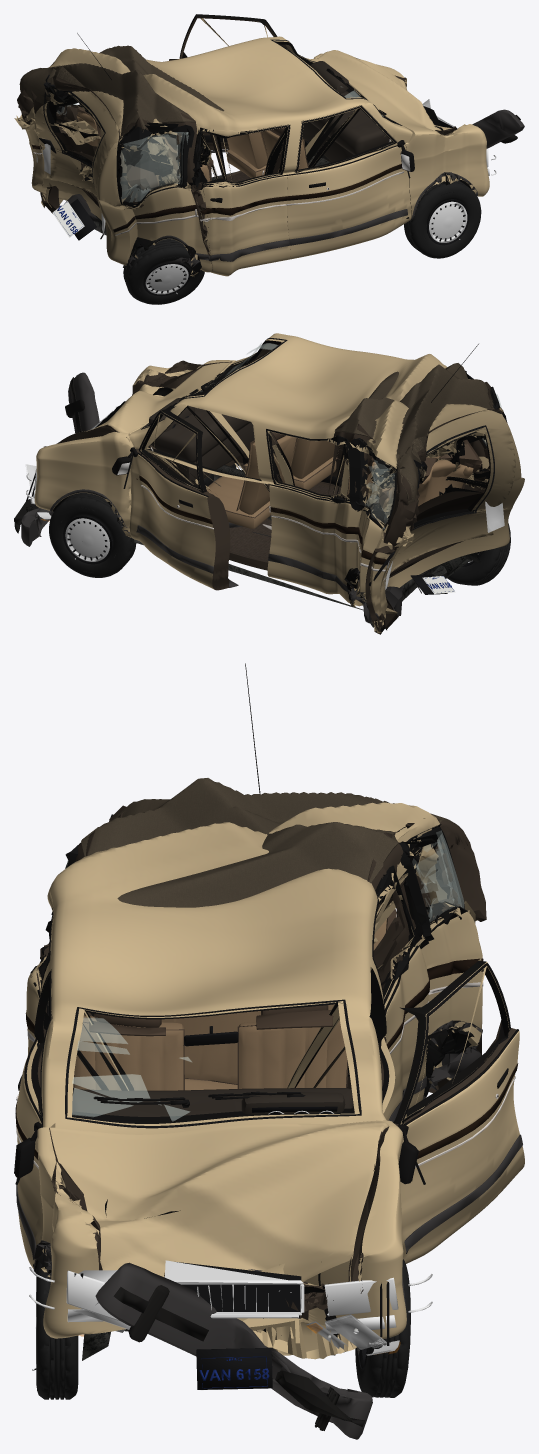
File: minivan86_rear_d3_lod1.glb
3 renders of one model, top to bottom at view 1: azimuth 30°, elevation 25°; view 2: azimuth 150°, elevation 25°; view 3: azimuth 270°, elevation 25°, orthographic. The views are drawn at different scales.
Parts seen in each view (by area): view 1: Body, Door_FR, Door_SR, Interior, Glass, Wheel_FR_mesh, Hood, Liftgate, Wheel_RR_mesh, Trim_FR, Trim, Trim_SR (+4 smaller); view 2: Body, Interior, Door_FL, Liftgate, Wheel_FL_mesh, Trim, Hood, Glass, Bumper_F, Trim_FL, Ends, Underbody (+2 smaller); view 3: Body, Hood, Interior, Door_FL, Ends, Bumper_F, Glass, Trim, Trim_FL, Door_FR, Wheel_FR_mesh, Wheel_FL_mesh (+2 smaller).
Boxes of the visible parts, x1,y1,x2,y2 form: Body: (14, 36, 489, 277); Door_FR: (287, 105, 411, 259); Door_SR: (194, 124, 290, 276); Interior: (76, 61, 389, 188); Glass: (57, 39, 402, 207); Wheel_FR_mesh: (404, 180, 481, 258); Hood: (317, 50, 451, 147); Liftgate: (20, 66, 122, 240); Wheel_RR_mesh: (123, 239, 204, 304); Trim_FR: (286, 105, 414, 245); Trim: (32, 33, 477, 272); Trim_SR: (192, 125, 289, 261); Body: (34, 333, 524, 634); Interior: (149, 398, 481, 528); Door_FL: (129, 406, 230, 590); Liftgate: (389, 407, 515, 577); Wheel_FL_mesh: (49, 493, 136, 577); Trim: (50, 344, 510, 623); Hood: (56, 362, 232, 443); Glass: (141, 338, 501, 531); Bumper_F: (14, 372, 99, 546); Trim_FL: (112, 411, 243, 587); Ends: (26, 394, 504, 594); Underbody: (76, 465, 481, 632); Body: (26, 778, 486, 1359); Hood: (49, 1120, 389, 1320); Interior: (72, 909, 396, 1116); Door_FL: (393, 960, 524, 1263); Ends: (29, 1260, 432, 1390); Bumper_F: (95, 1262, 372, 1439); Glass: (65, 814, 464, 1128); Trim: (33, 663, 483, 1307); Trim_FL: (398, 963, 522, 1253); Door_FR: (16, 970, 52, 1268); Wheel_FR_mesh: (32, 1261, 78, 1399); Wheel_FL_mesh: (355, 1259, 410, 1397).
Size of the model in its own units: 3.78 by 2.24 by 2.26.
Materials: 33 (5 with a texture image).
